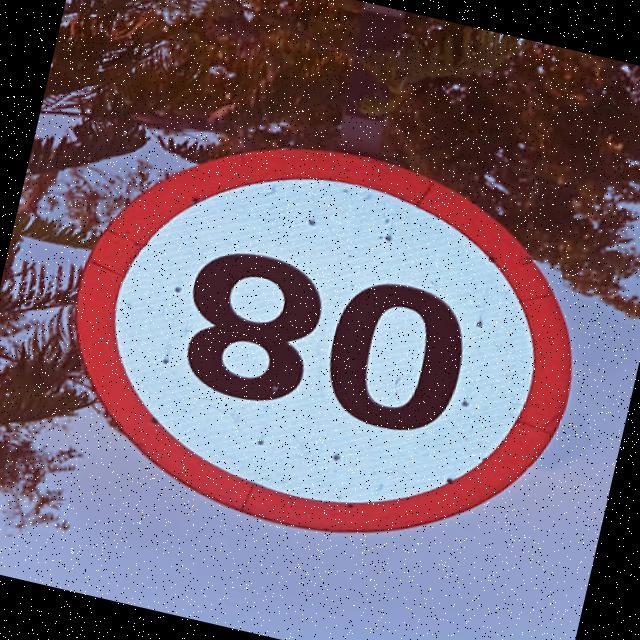speed_limit_80: (35, 94, 618, 589)
